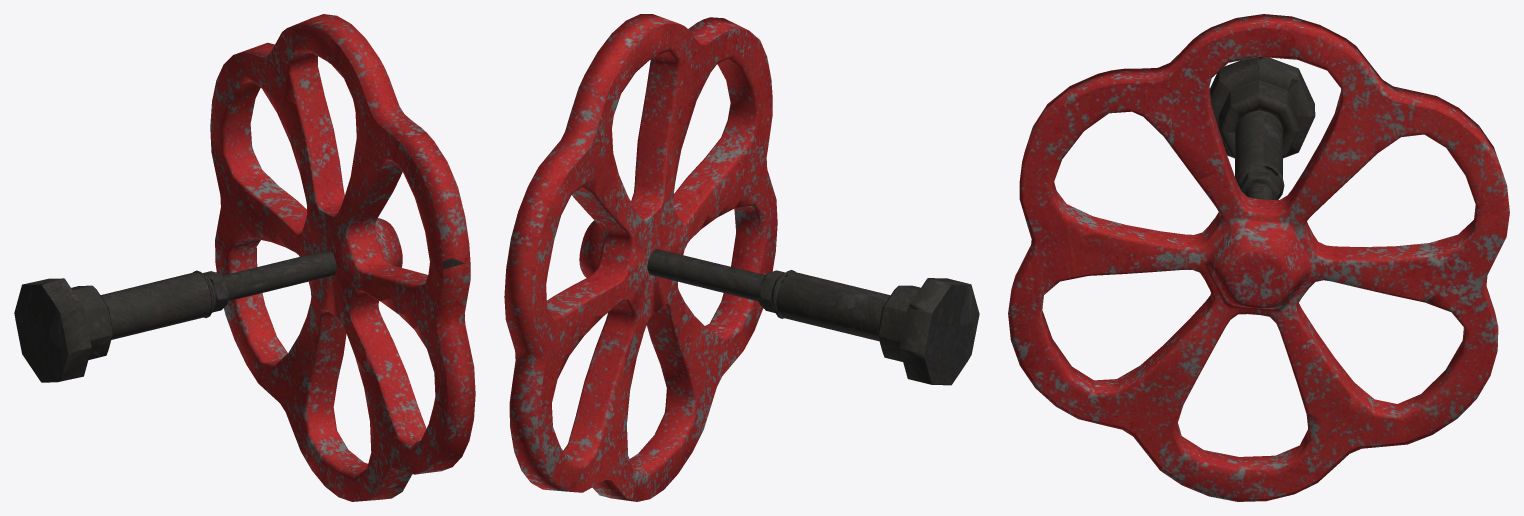
The model's file is steam_engine_valve.glb.
The picture shows the model from 3 angles, left to right: view 1: azimuth 30°, elevation 25°; view 2: azimuth 150°, elevation 25°; view 3: azimuth 270°, elevation 25°; orthographic projection. The views are drawn at different scales.
Visible parts, largest first — view 1: steam_engine_valve_Baked; view 2: steam_engine_valve_Baked; view 3: steam_engine_valve_Baked.
Part boxes in pixels (x1,y1,x2,y2): steam_engine_valve_Baked: [14, 14, 475, 501]; steam_engine_valve_Baked: [504, 14, 979, 501]; steam_engine_valve_Baked: [1008, 14, 1509, 501].
Bounding box in the file's own units: 0.4108 × 0.5212 × 0.4954.
1 material, 1 textured.
